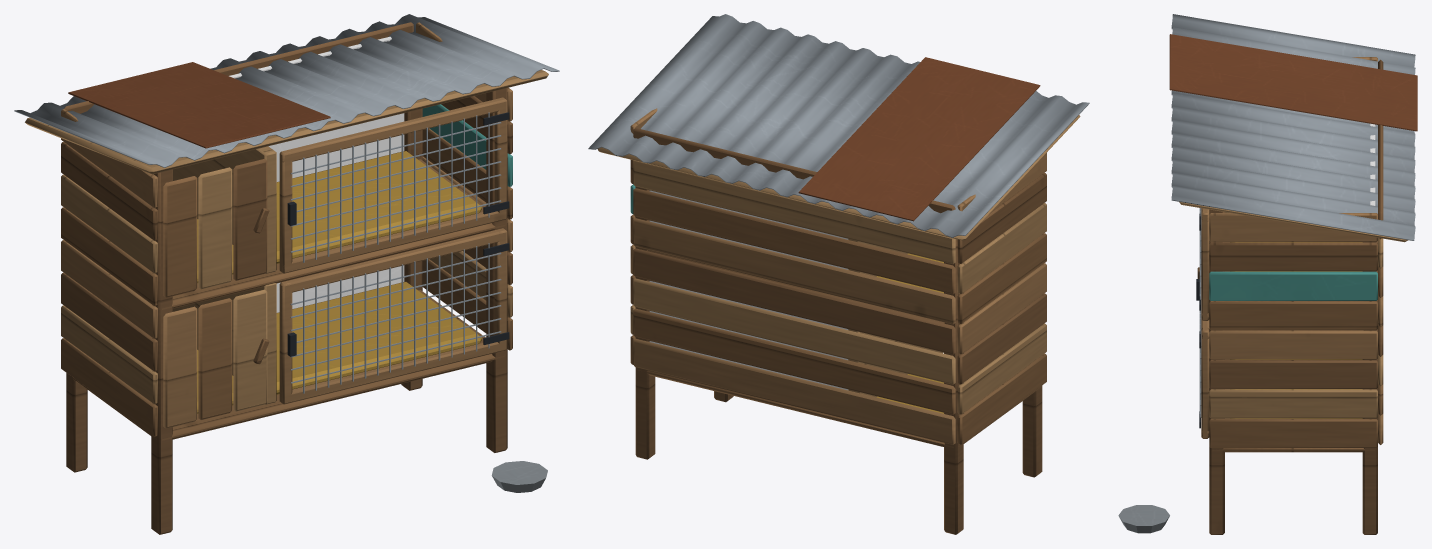
The model's file is rabbit_hutch.glb.
3 views of the same model, side by side, from view 1: azimuth 30°, elevation 25°; view 2: azimuth 150°, elevation 25°; view 3: azimuth 270°, elevation 25° (orthographic). The views are drawn at different scales.
Parts seen in each view (by area): view 1: rabbit_hutch; view 2: rabbit_hutch; view 3: rabbit_hutch.
Boxes of the visible parts, x1,y1,x2,y2 form: rabbit_hutch: (14,14,559,534); rabbit_hutch: (588,14,1089,534); rabbit_hutch: (1118,14,1417,534).
Size of the model in its own units: 1.64 by 1.53 by 1.15.
Materials: 16 (16 with a texture image).
